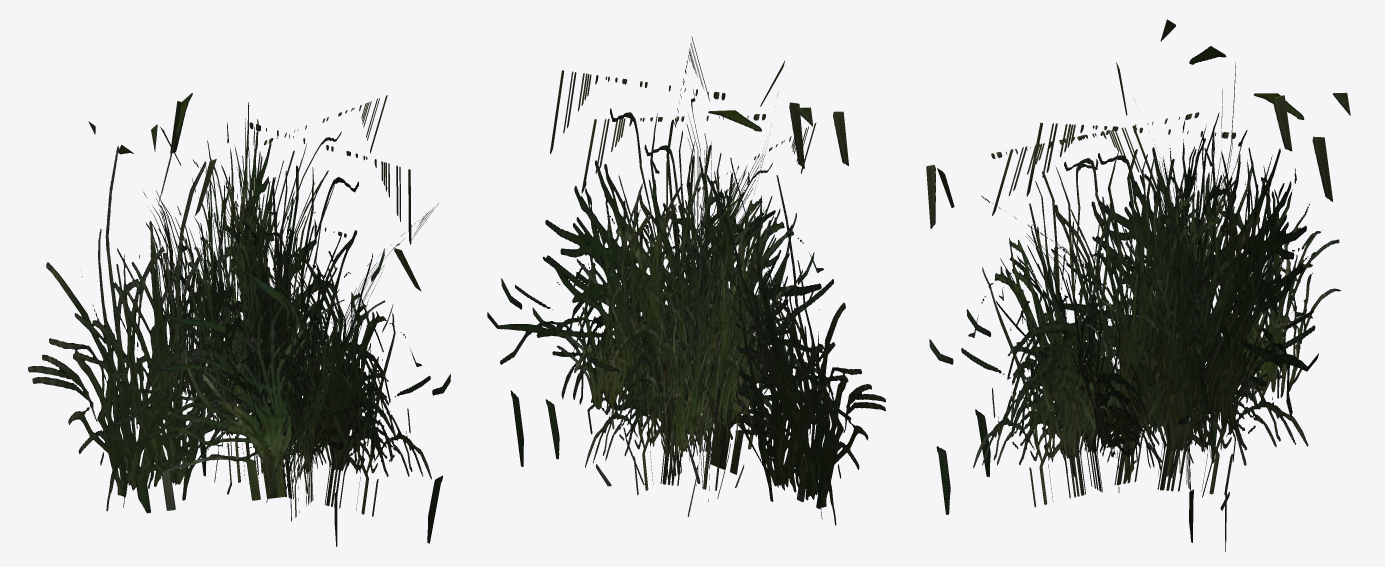
The model's file is forest_grass_001_c_LOD1.gltf.
3 views of the same model, side by side, from view 1: azimuth 30°, elevation 25°; view 2: azimuth 150°, elevation 25°; view 3: azimuth 270°, elevation 25° (orthographic). The views are drawn at different scales.
Parts seen in each view (by area): view 1: forest_grass_001_c_LOD1; view 2: forest_grass_001_c_LOD1; view 3: forest_grass_001_c_LOD1.
Part boxes in pixels (bbox=[...]): forest_grass_001_c_LOD1: bbox=[28, 93, 450, 546]; forest_grass_001_c_LOD1: bbox=[487, 36, 885, 525]; forest_grass_001_c_LOD1: bbox=[926, 19, 1350, 551].
Bounding box in the file's own units: 0.9344 × 0.9027 × 0.8982.
1 material, 1 textured.
